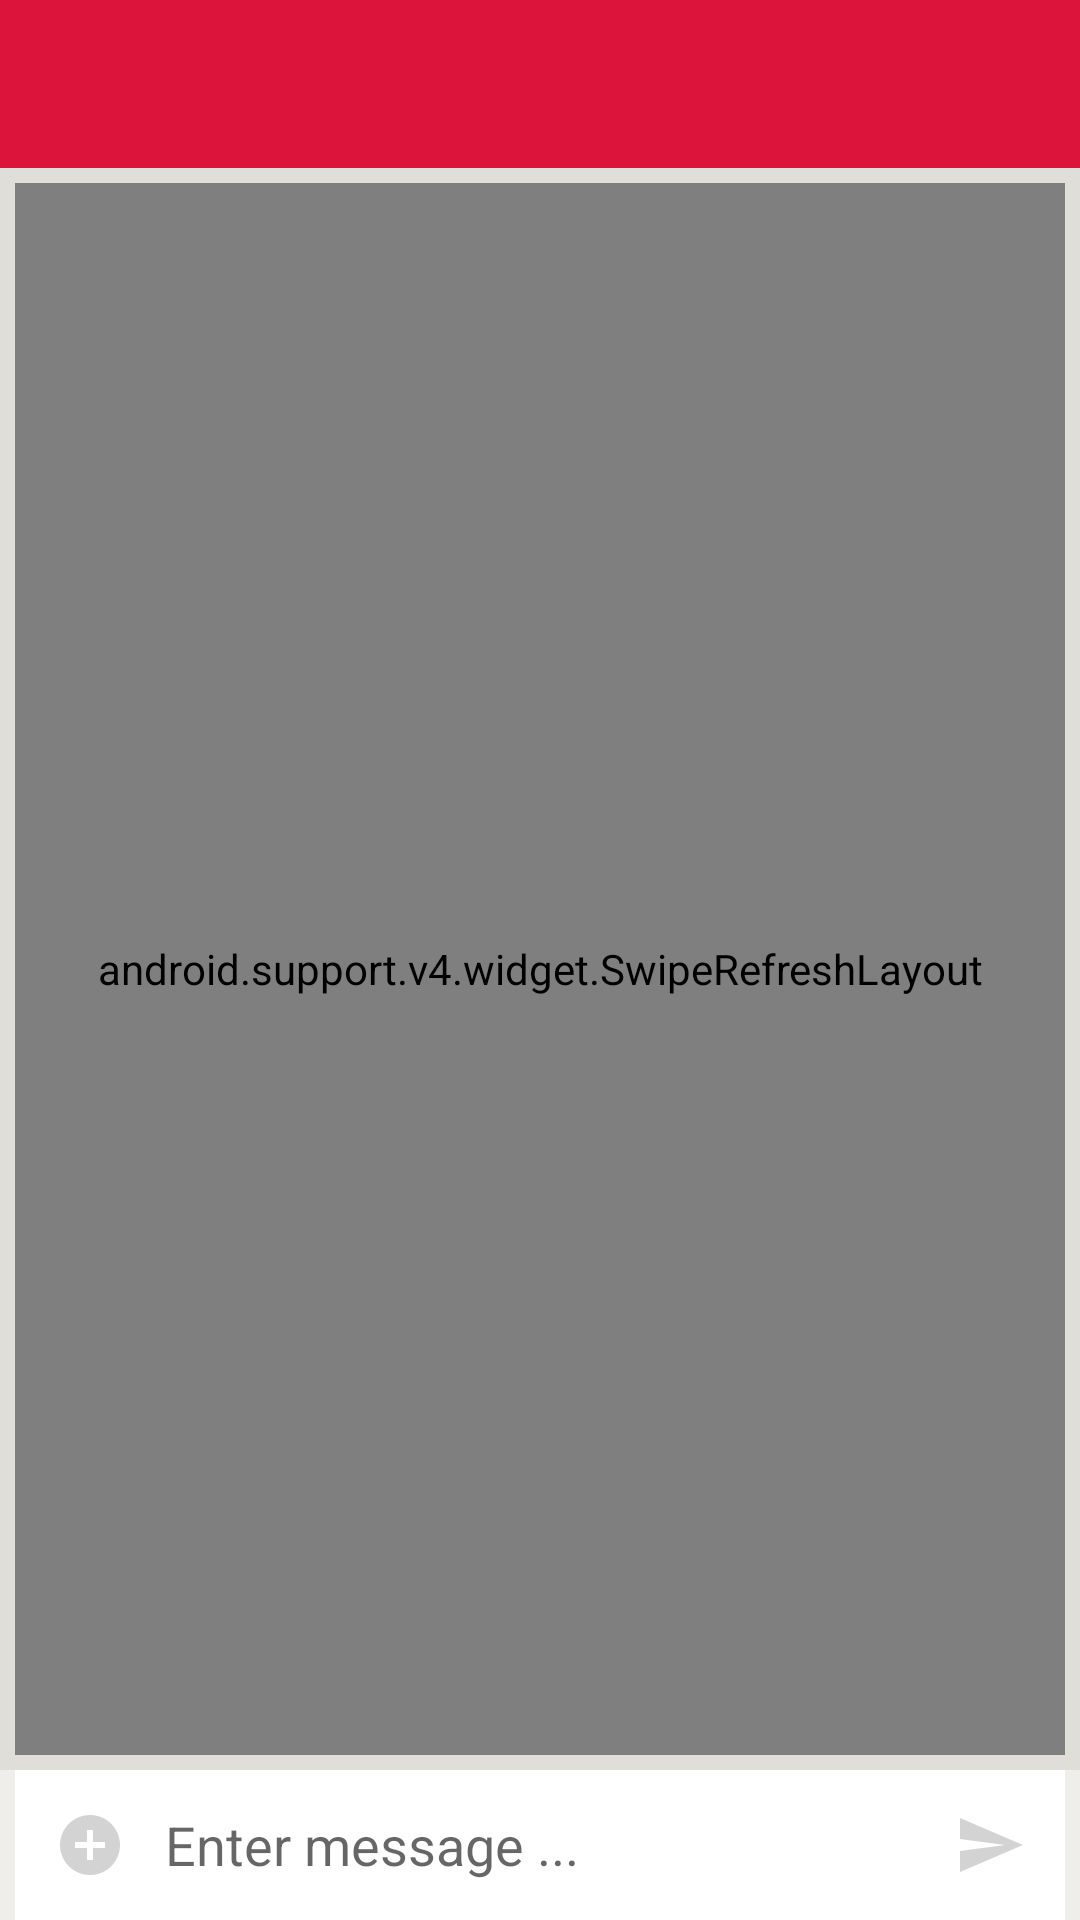

Named icons in this screenshot (1080*1920) and their bounding boxes, box(x1, y1, x2, y2):
add: box(60, 1815, 120, 1875)
send: box(960, 1818, 1022, 1872)
